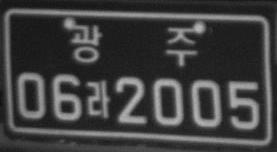0: (150, 75, 185, 128), (189, 77, 224, 128), (15, 70, 46, 120)
2: (113, 74, 149, 127)
5: (226, 79, 261, 131)
6: (51, 72, 84, 123)
광주_D: (69, 22, 200, 68)
라: (85, 78, 111, 121)
